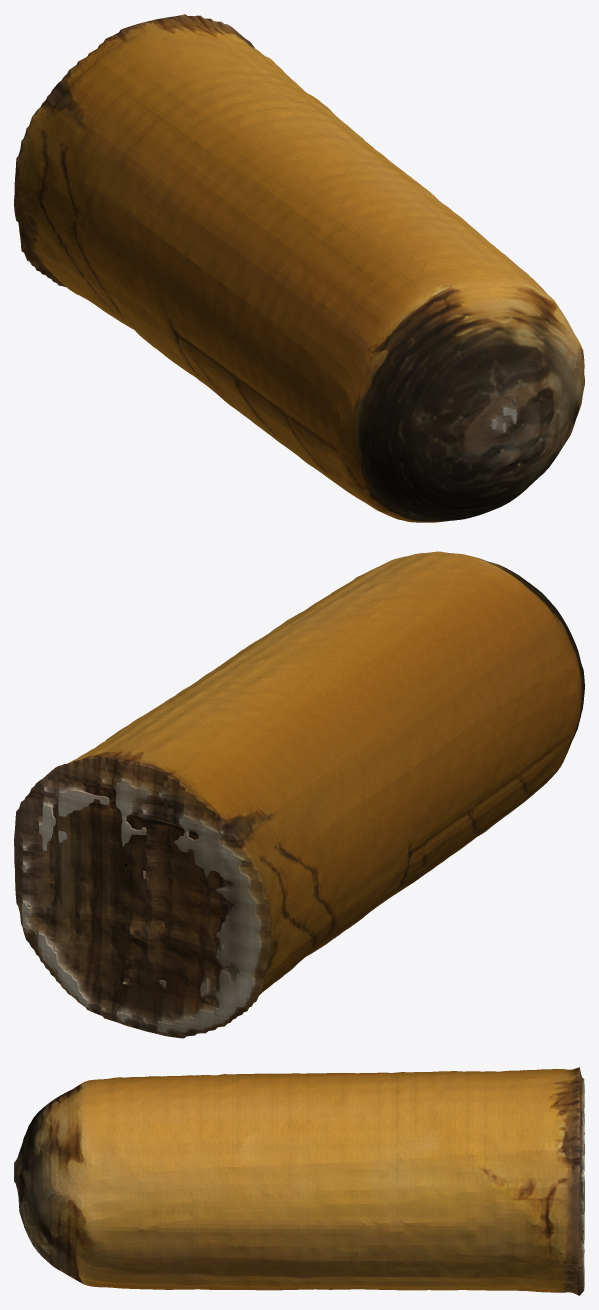
The model's file is 0_rgba.obj.
The picture shows the model from 3 angles, top to bottom: view 1: azimuth 30°, elevation 25°; view 2: azimuth 150°, elevation 25°; view 3: azimuth 270°, elevation 25°; orthographic projection. The views are drawn at different scales.
Size of the model in its own units: 0.8291 by 0.8013 by 2.01.
1 material, 1 textured.
